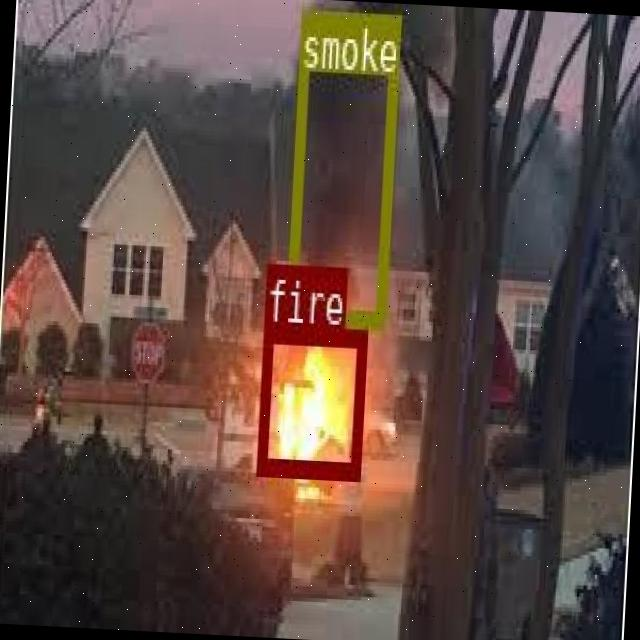fire: (257, 323, 366, 476)
smoke: (285, 8, 399, 326)
